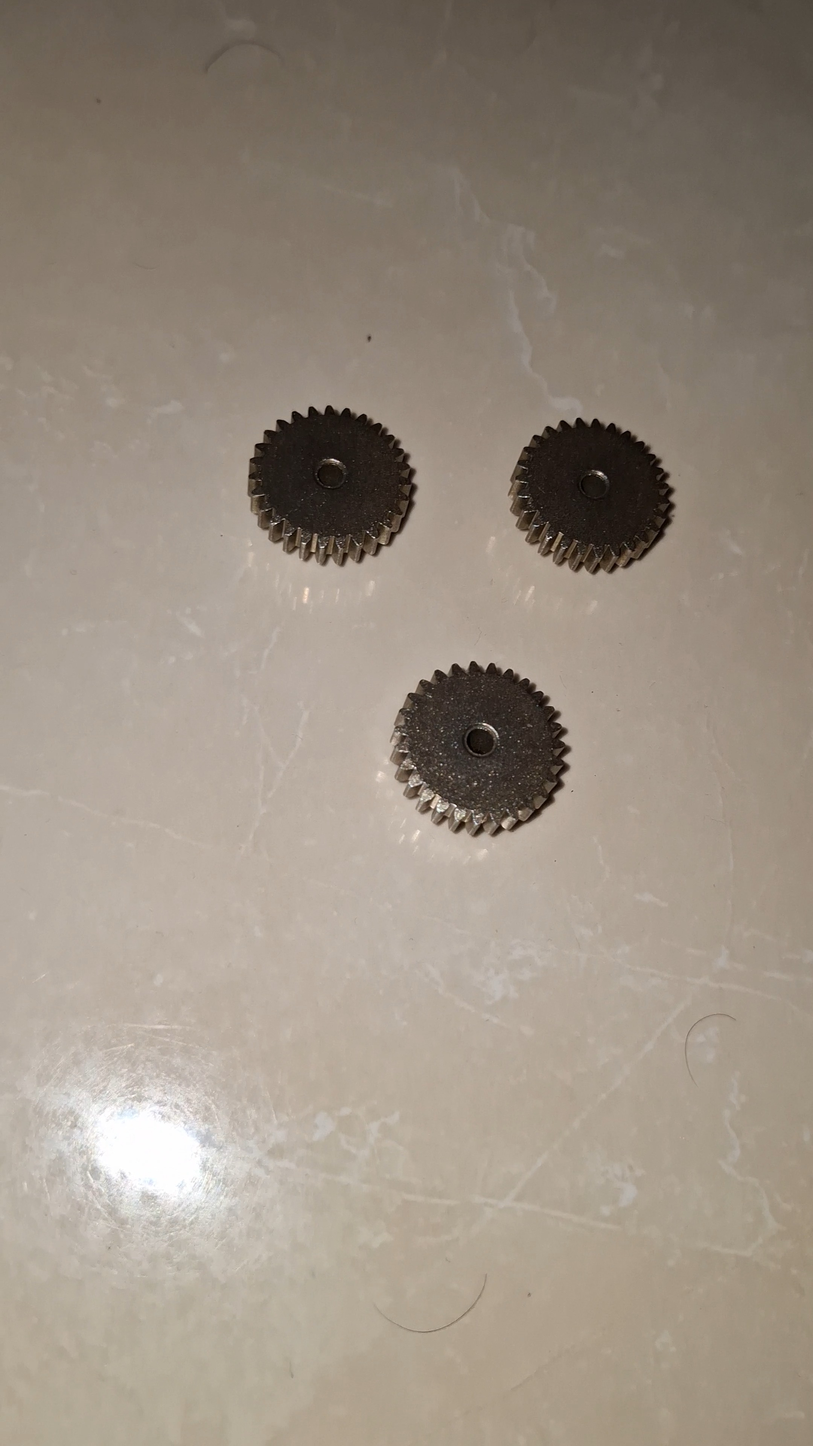spur gear: (382, 663, 551, 834), (237, 410, 400, 566), (498, 423, 656, 573)
